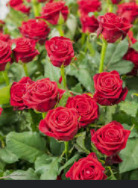RedRose: (93, 123, 134, 163), (90, 70, 131, 108), (42, 103, 82, 140), (19, 75, 60, 110), (44, 34, 75, 67), (65, 95, 102, 121), (96, 13, 124, 43)
